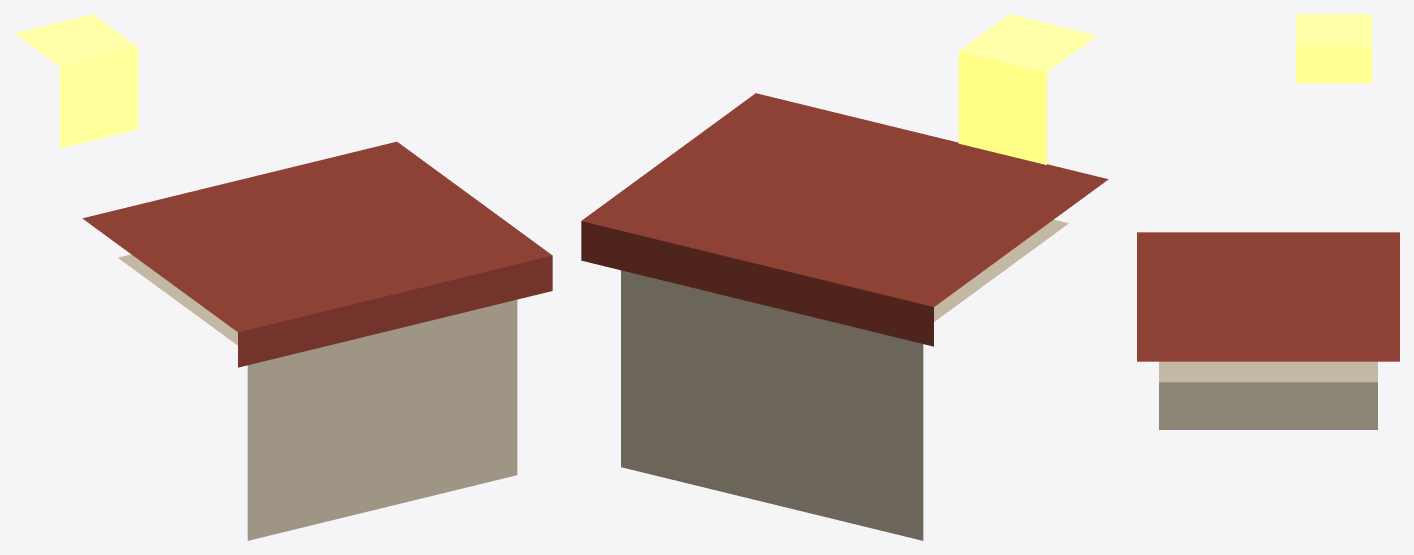
3 views of the same model, side by side, from view 1: azimuth 30°, elevation 25°; view 2: azimuth 150°, elevation 25°; view 3: azimuth 270°, elevation 25° (orthographic). The views are drawn at different scales.
Visible parts, largest first — view 1: Roof, Walls, Sun; view 2: Roof, Walls, Sun; view 3: Roof, Walls, Sun.
Part boxes in pixels (x1,y1,x2,y2): Roof: [82, 141, 552, 367]; Walls: [118, 254, 517, 540]; Sun: [14, 14, 138, 148]; Roof: [581, 93, 1108, 346]; Walls: [621, 219, 1068, 540]; Sun: [958, 14, 1097, 164]; Roof: [1137, 232, 1399, 361]; Walls: [1159, 361, 1377, 429]; Sun: [1296, 14, 1372, 83].
Bounding box in the file's own units: 1.77 × 1.88 × 1.2.
